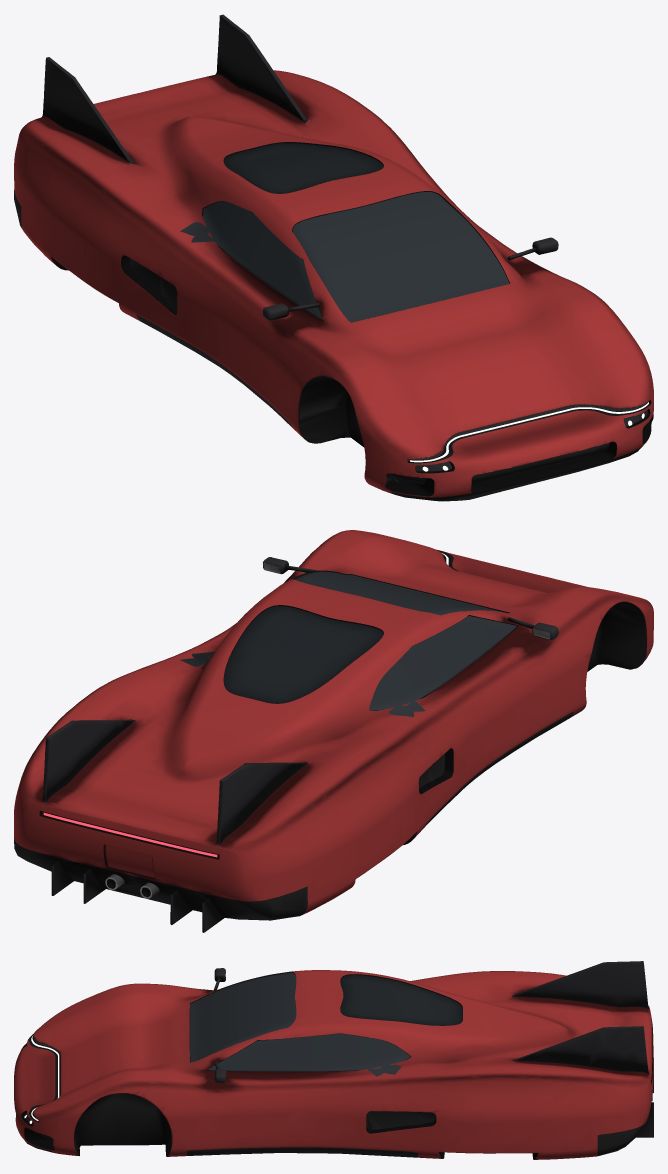
The model's file is apogee.m.glb.
The picture shows the model from 3 angles, top to bottom: view 1: azimuth 30°, elevation 25°; view 2: azimuth 150°, elevation 25°; view 3: azimuth 270°, elevation 25°; orthographic projection. The views are drawn at different scales.
Visible parts, largest first — view 1: paint_lodm, window_lodm, trim_lodm, carbon_lodm, glass_lodm, grille_lodm, head_lodm; view 2: paint_lodm, carbon_lodm, glass_lodm, window_lodm, trim_lodm, chrome_lodm; view 3: paint_lodm, window_lodm, carbon_lodm, trim_lodm, glass_lodm, grille_lodm.
Boxes of the visible parts, x1=… form: paint_lodm: x1=14, y1=70, x2=653, y2=497; window_lodm: x1=180, y1=191, x2=509, y2=322; trim_lodm: x1=14, y1=190, x2=653, y2=501; carbon_lodm: x1=42, y1=14, x2=558, y2=428; glass_lodm: x1=223, y1=142, x2=383, y2=193; grille_lodm: x1=129, y1=258, x2=609, y2=484; head_lodm: x1=407, y1=401, x2=648, y2=471; paint_lodm: x1=14, y1=530, x2=653, y2=915; carbon_lodm: x1=42, y1=557, x2=573, y2=932; glass_lodm: x1=223, y1=605, x2=383, y2=703; window_lodm: x1=180, y1=571, x2=516, y2=716; trim_lodm: x1=14, y1=549, x2=646, y2=920; chrome_lodm: x1=105, y1=562, x2=550, y2=898; paint_lodm: x1=14, y1=970, x2=653, y2=1159; window_lodm: x1=190, y1=972, x2=410, y2=1076; carbon_lodm: x1=187, y1=961, x2=653, y2=1157; trim_lodm: x1=14, y1=971, x2=652, y2=1159; glass_lodm: x1=340, y1=974, x2=462, y2=1025; grille_lodm: x1=38, y1=1111, x2=435, y2=1139.
Size of what is drawn, in the model's own units: 2.12 by 1.1 by 4.99.
